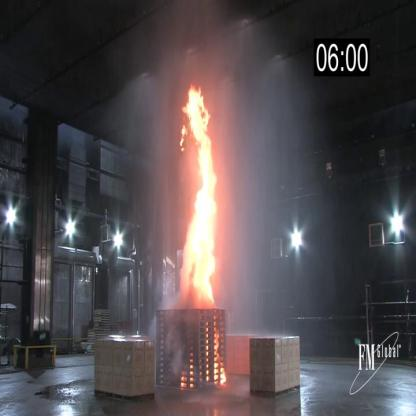fire: (179, 67, 217, 306), (214, 361, 227, 386)
